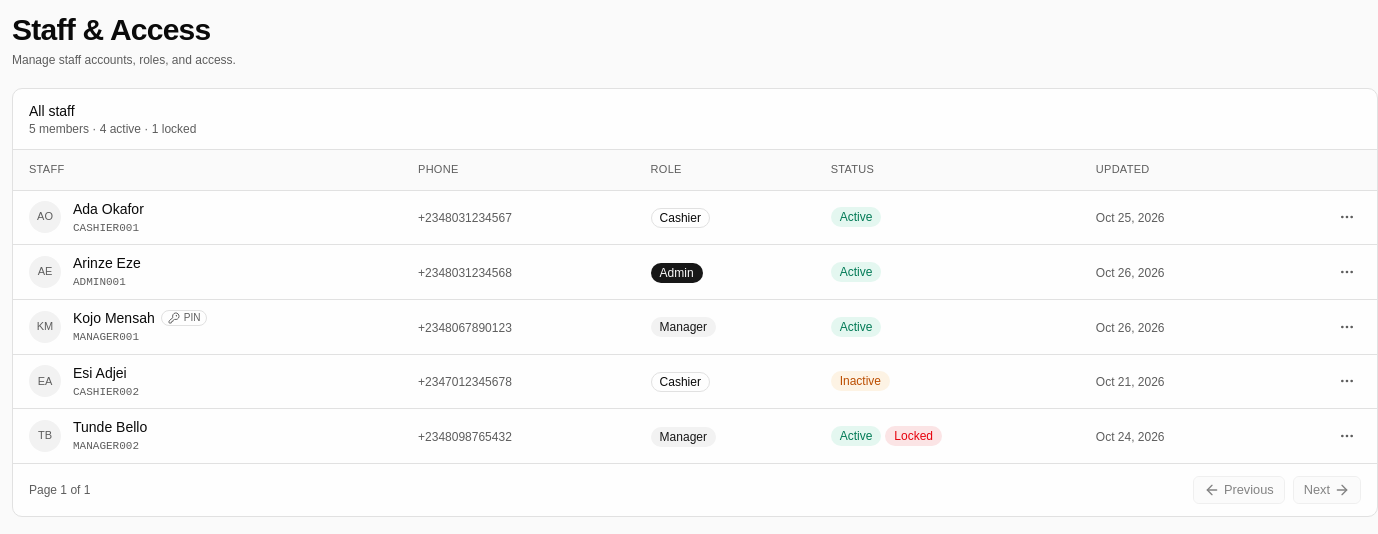
Test: staff actions per role › manager can view and reset PINs but cannot add, edit or deactivate staff
Expected: the text "Ada Okafor" is shown, [73,198,144,218]
Click the button named "Actions for Ada Okafor".
click(1347, 217)  # box [1333,203,1361,231]
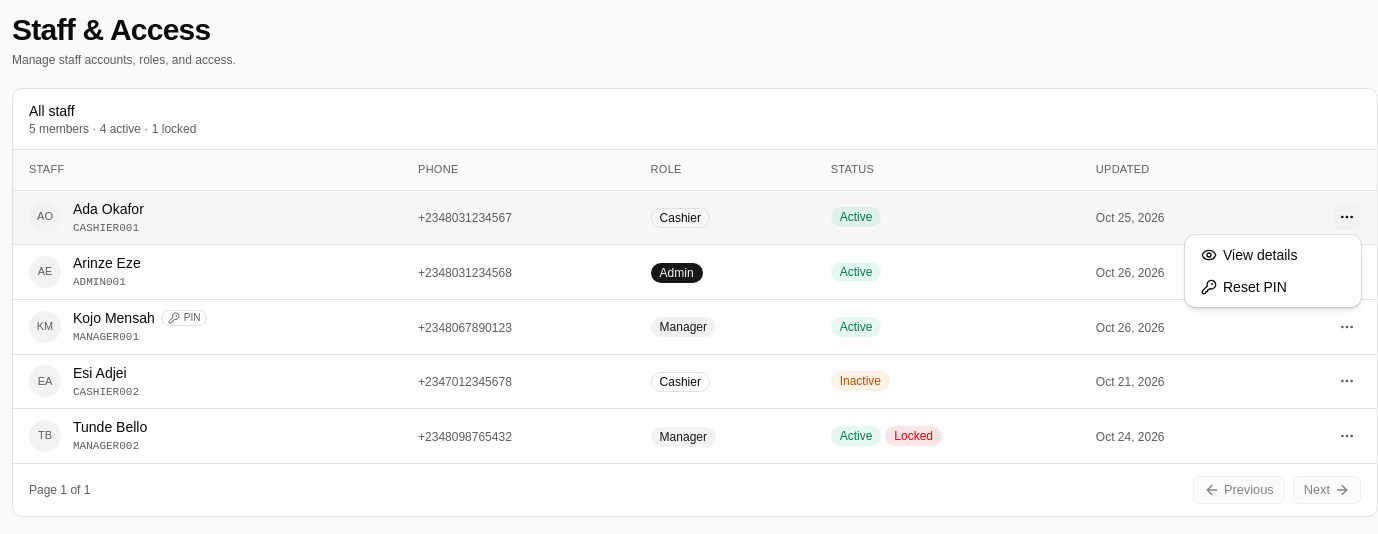
Now the menu item "View details" is shown, box [1201,247,1298,263]
Now the menu item "Reset PIN" is shown, box [1201,279,1287,295]
